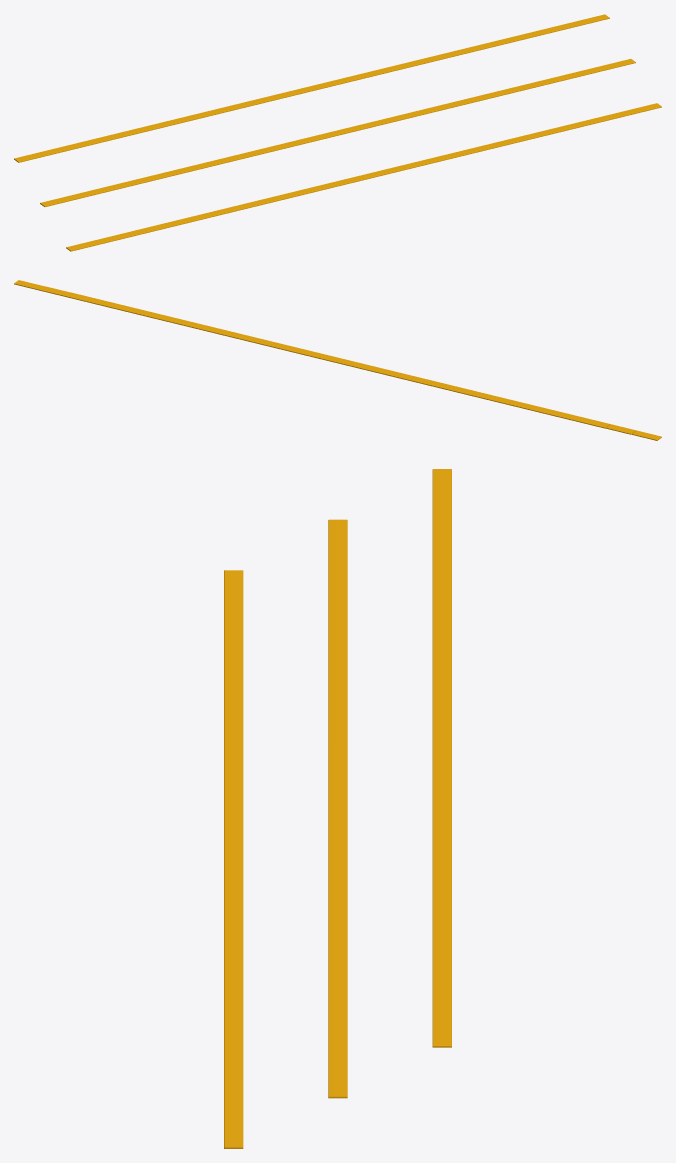
Rendered from gteki_ik_stair_n3_r160_t299_w3929_nosing.glb.
The picture shows the model from 3 angles, top to bottom: view 1: azimuth 30°, elevation 25°; view 2: azimuth 150°, elevation 25°; view 3: azimuth 270°, elevation 25°; orthographic projection. The views are drawn at different scales.
Parts seen in each view (by area): view 1: VIS_nosings; view 2: VIS_nosings; view 3: VIS_nosings.
Boxes of the visible parts, box(x1,y1,x2,y2) form: VIS_nosings: box(14, 14, 661, 251); VIS_nosings: box(14, 280, 661, 440); VIS_nosings: box(224, 469, 451, 1148).
Size of the model in its own units: 3.91 by 0.326 by 0.653.
